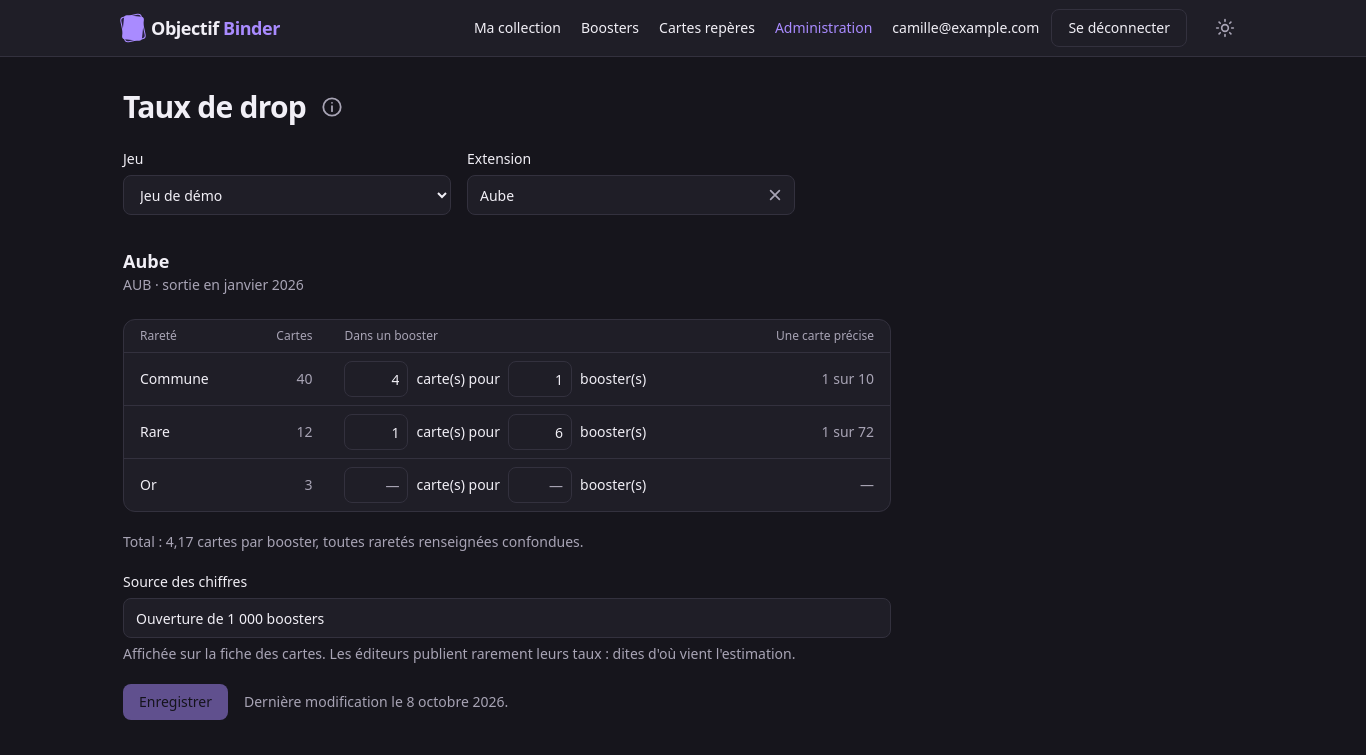
Test: pull rates administration › saves the whole list of rates, leaving out the rarities without one
Only the boosters: one card is meant.
Type "51" into the 2nd field with placeholder "—".
click(540, 485); type("51")  # box left=508, top=467, right=572, bottom=503
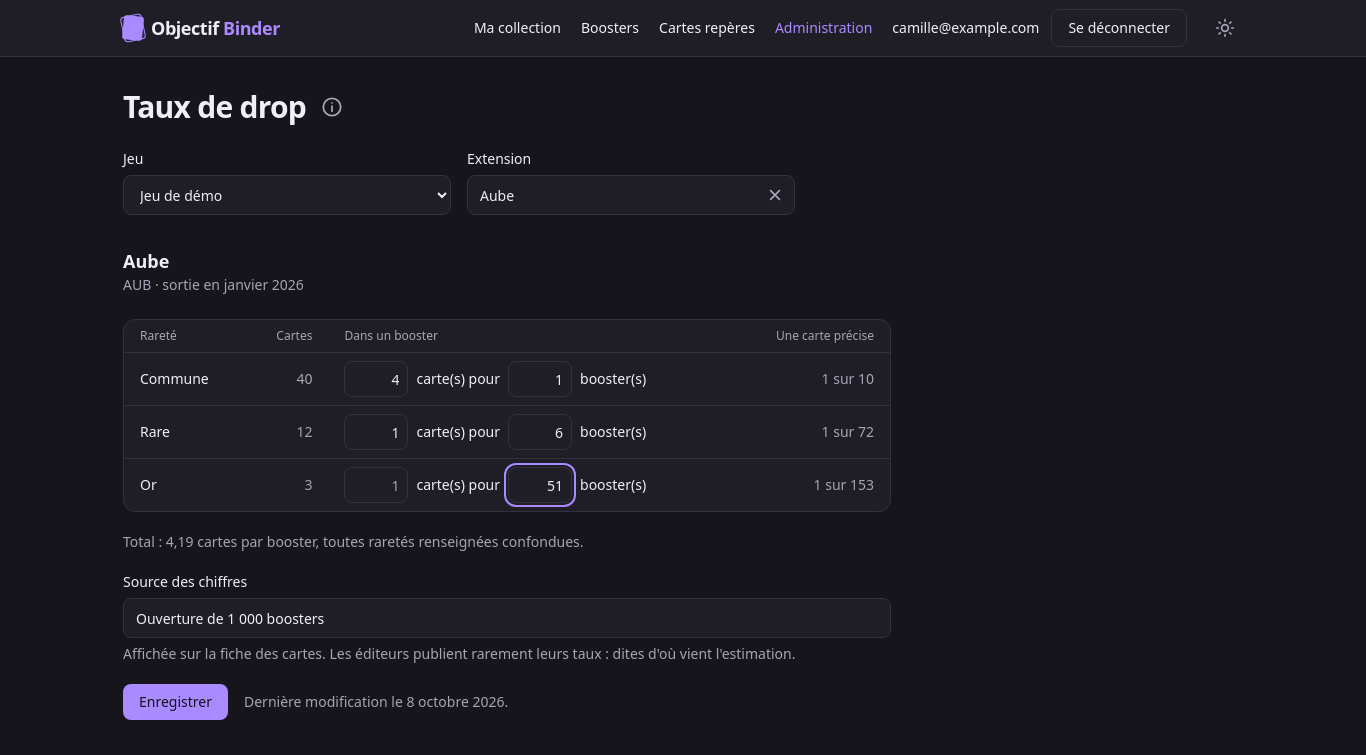
Expected: the cell "1 sur 153" is shown, left=733, top=458, right=890, bottom=511
Clear the field named "Rare : nombre de cartes" at (376, 432), box left=344, top=414, right=408, bottom=450
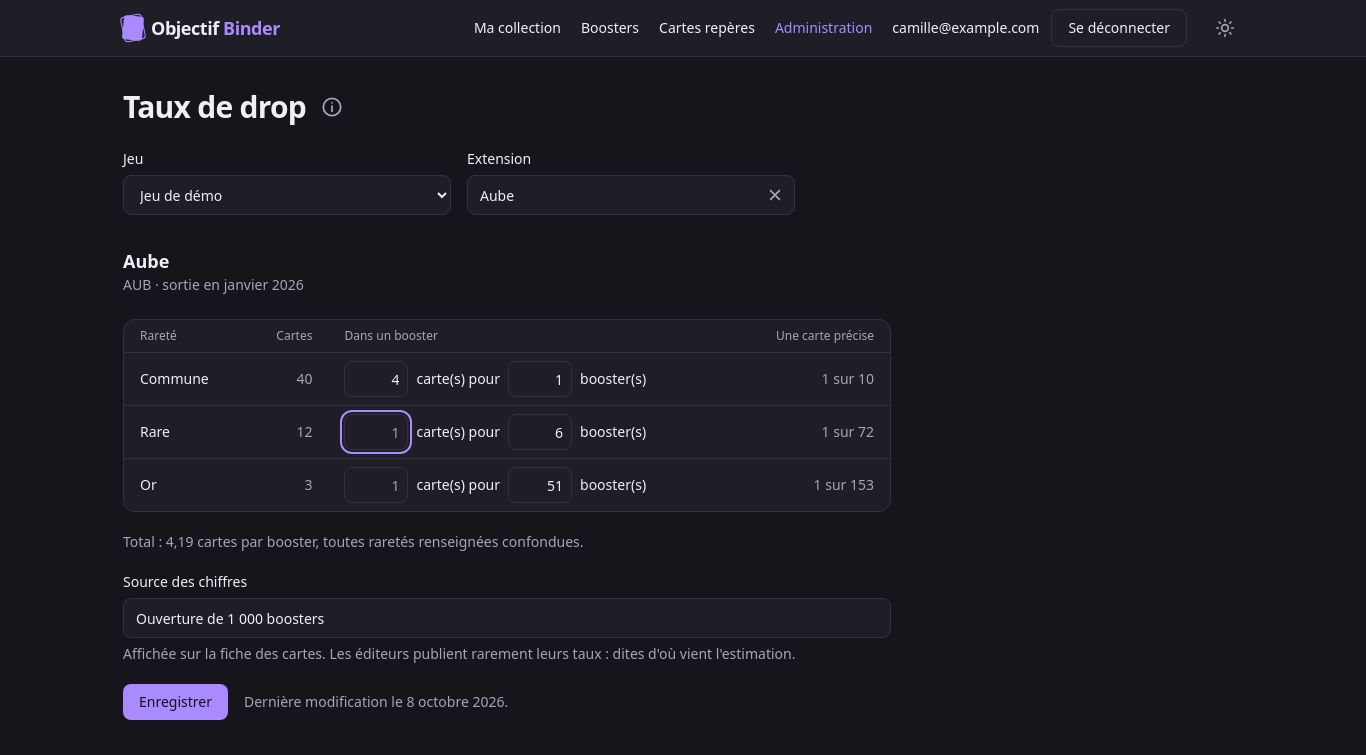
Clear the field named "Rare : nombre de boosters" at (540, 432), box left=508, top=414, right=572, bottom=450
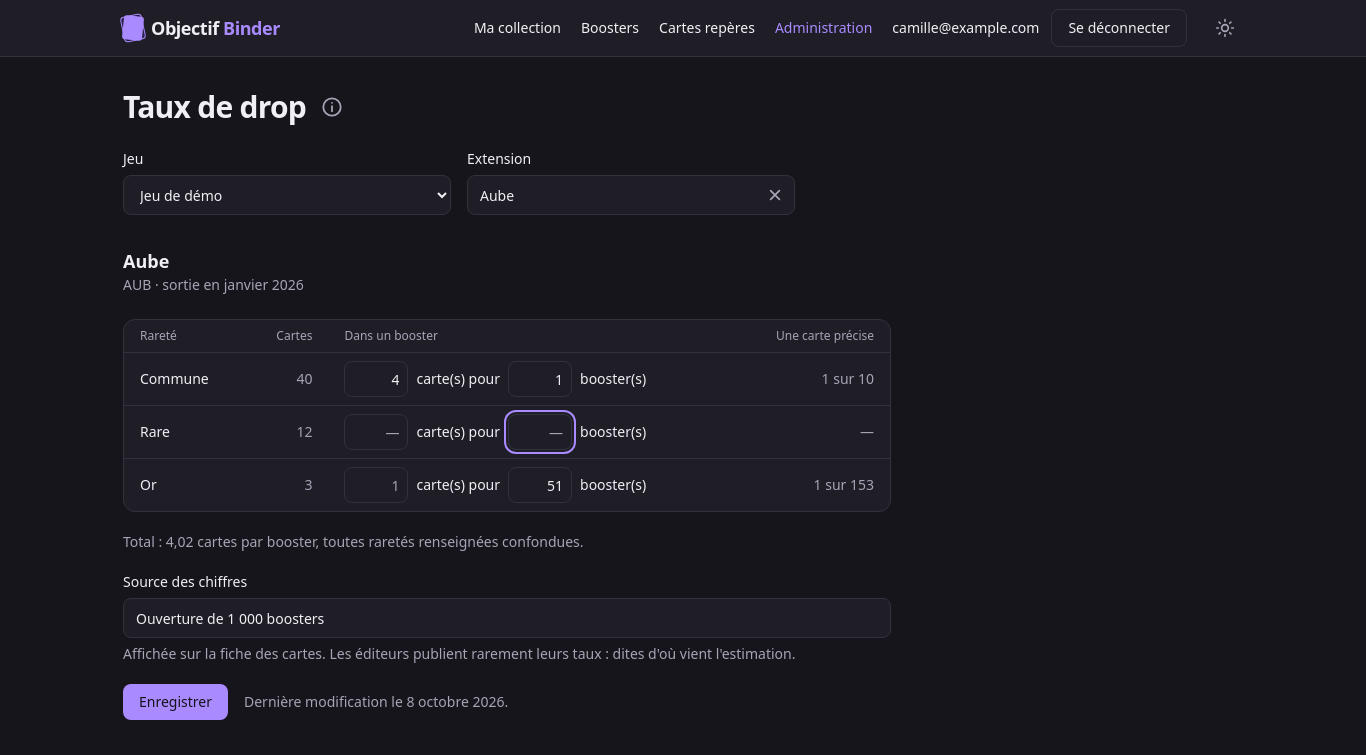
Click the button "Enregistrer".
click(176, 702)  # box left=123, top=684, right=228, bottom=720
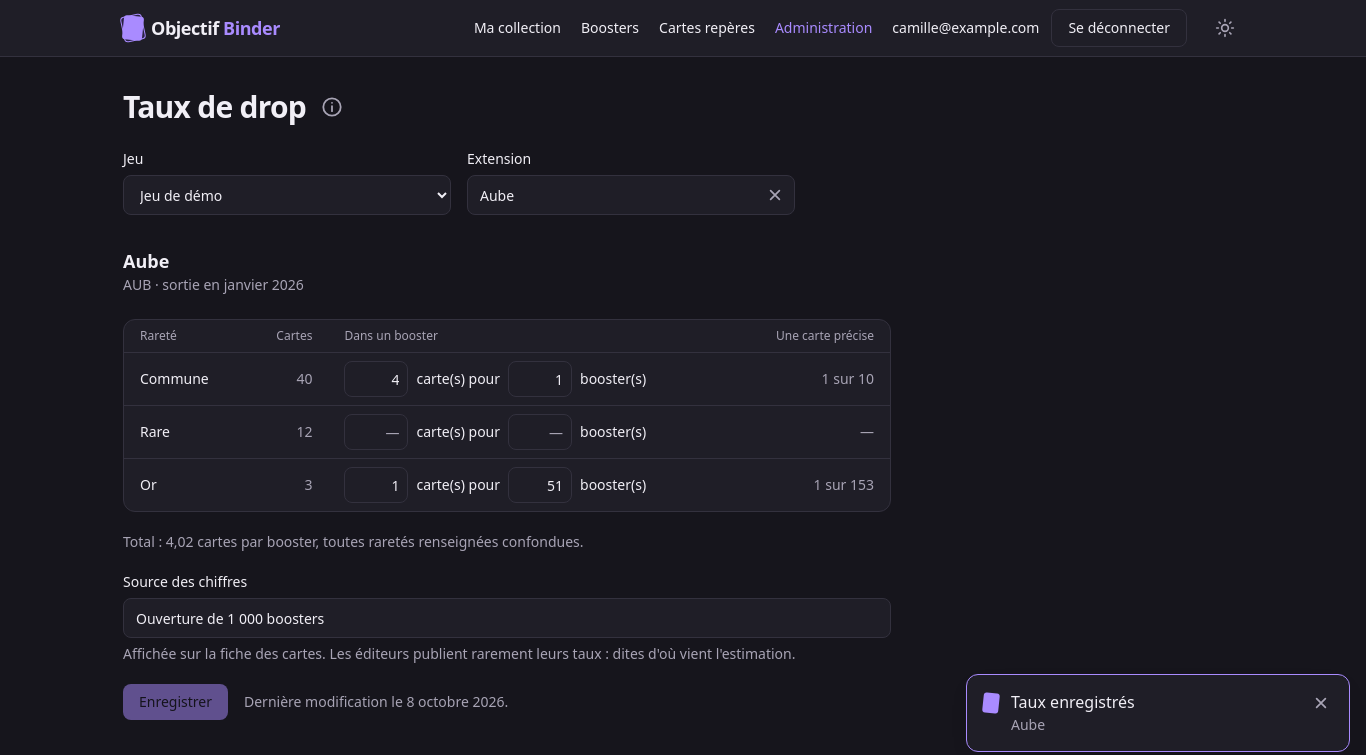
Expected: the text "Taux enregistrés" is shown, left=1011, top=691, right=1135, bottom=713
Expected: the button "Enregistrer" is disabled, left=123, top=684, right=228, bottom=720
